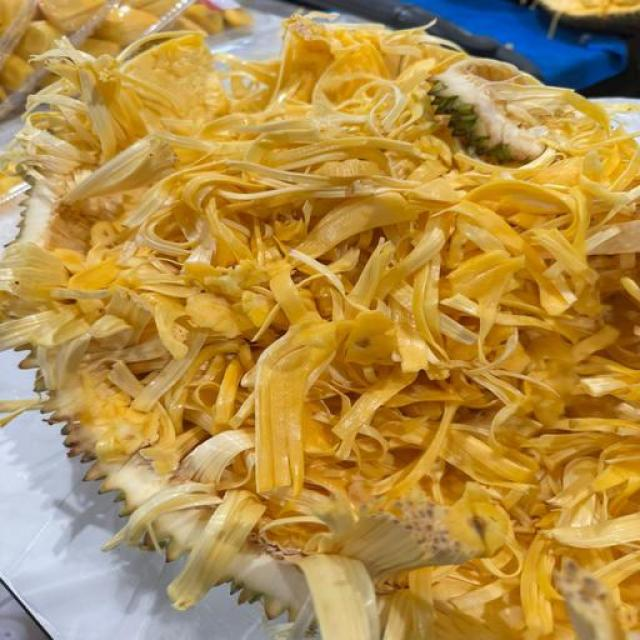organic: (1, 1, 640, 640), (429, 82, 512, 163)
